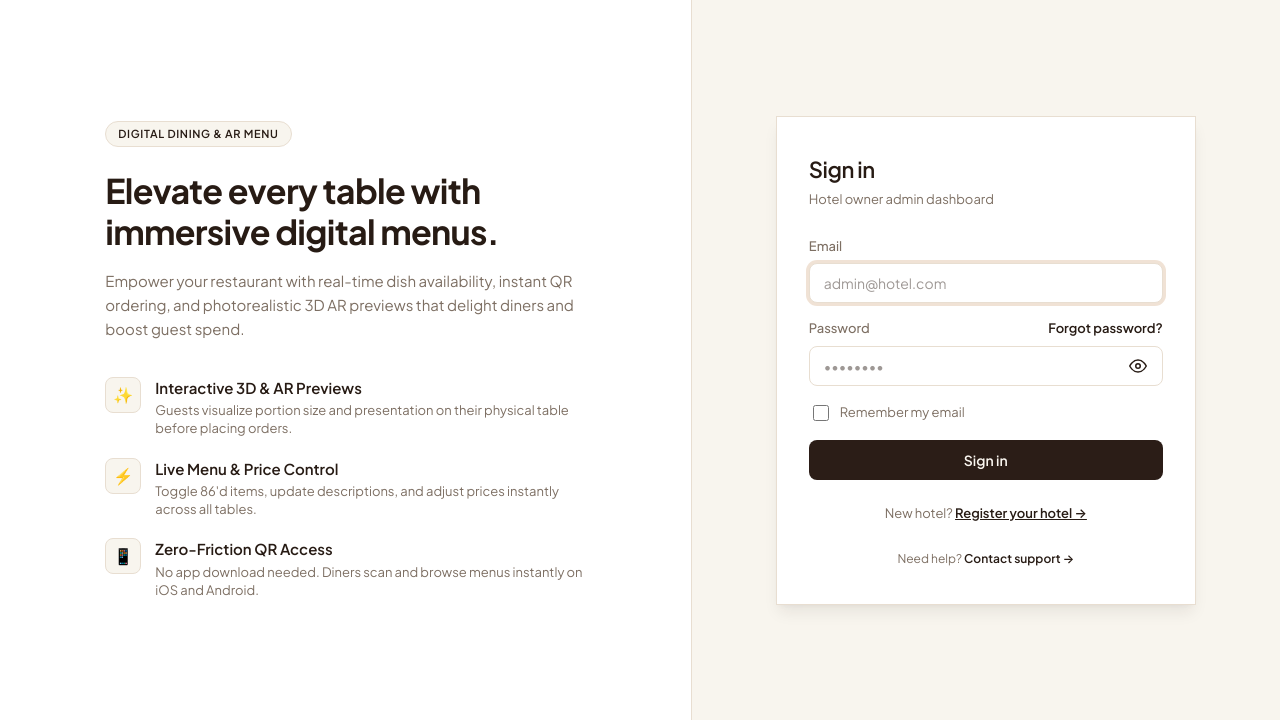
Admin Authentication Suite (TC-ADM-001 to TC-ADM-020) › TC-ADM-015: Disables submit button during active loading state
In the field with placeholder "admin@hotel.com": (986,282) [809,262,1163,302], type "wait@hotel.com"
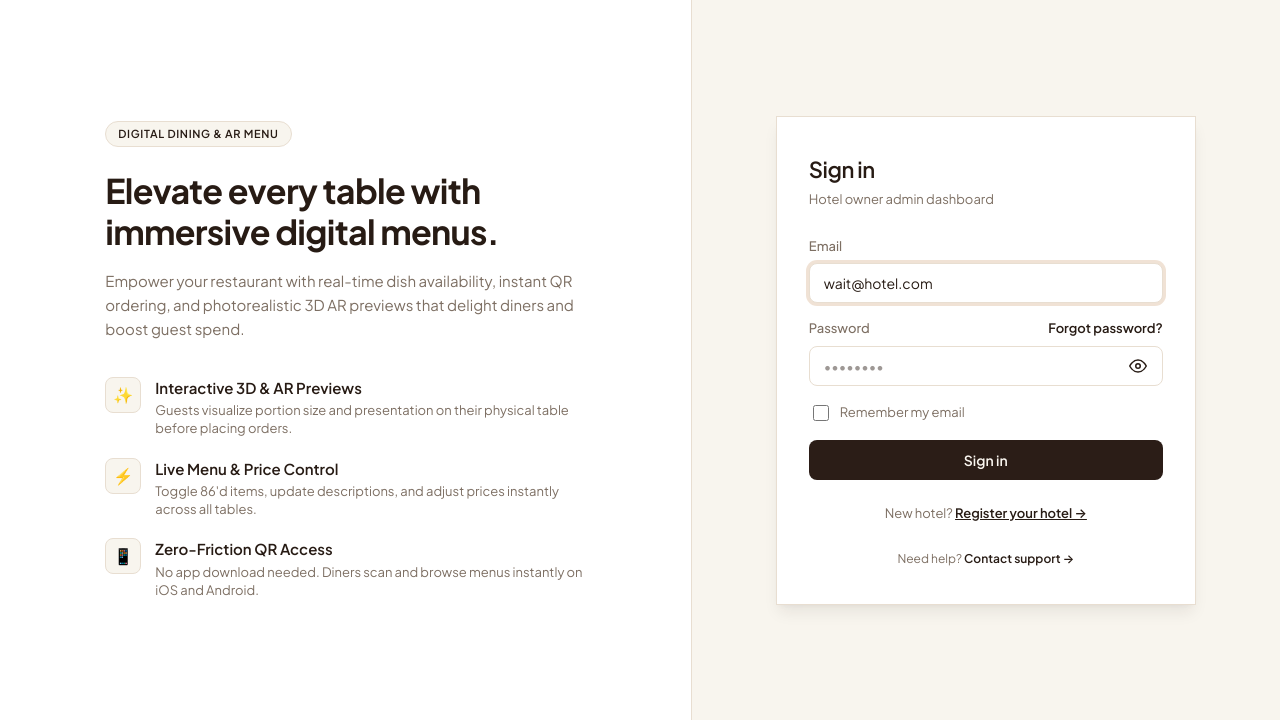
In the password field with placeholder "••••••••": (986,366) [809,346,1163,386], type "password123"
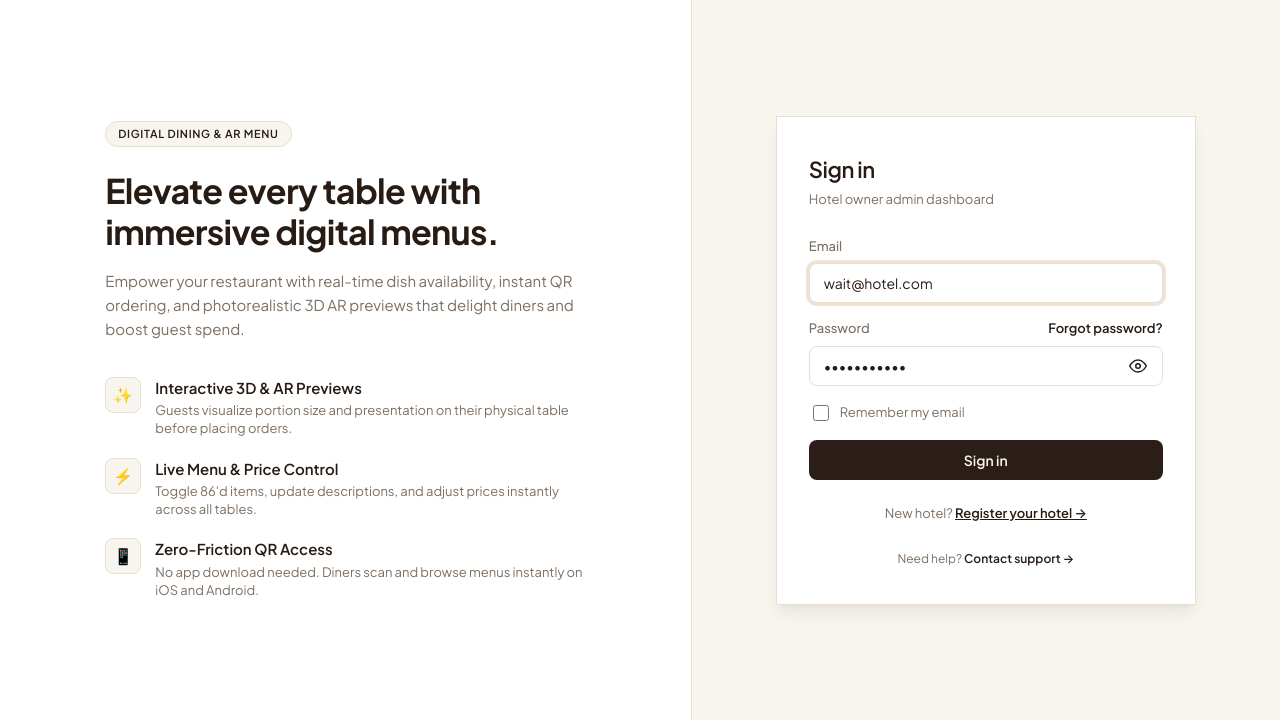
Click the button "Sign in": (986,460) [809,440,1163,480]
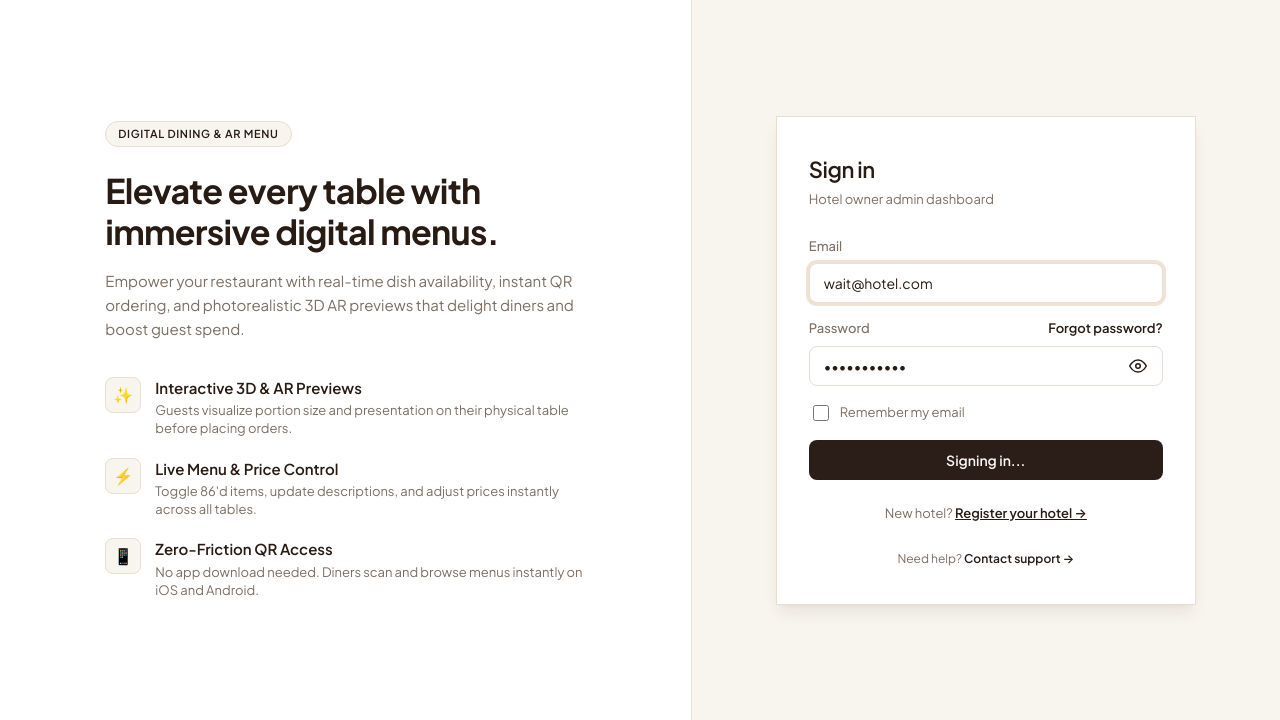
Expected: the button "Signing in..." is disabled, [809,440,1163,480]
